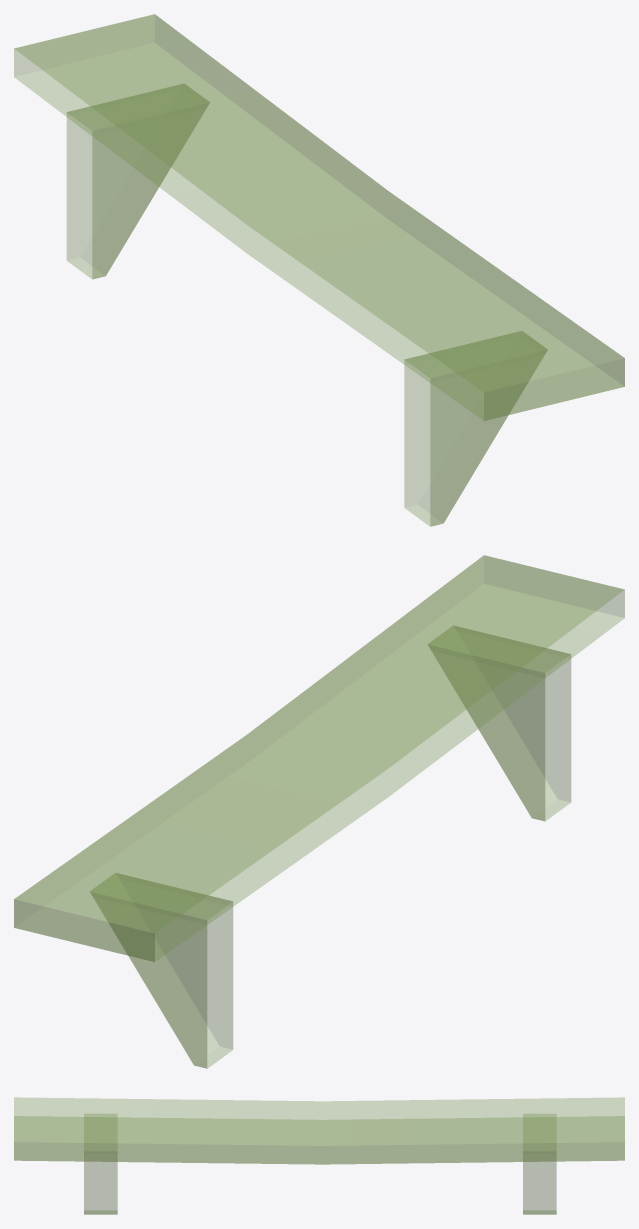
The model's file is wall_shelf_A_COL.fbx.
3 views of the same model, one above another, from view 1: azimuth 30°, elevation 25°; view 2: azimuth 150°, elevation 25°; view 3: azimuth 270°, elevation 25° (orthographic). The views are drawn at different scales.
Parts seen in each view (by area): view 1: wall_shelf_A_COL; view 2: wall_shelf_A_COL; view 3: wall_shelf_A_COL.
Part boxes in pixels (<box>): wall_shelf_A_COL: <box>14,14,624,526</box>; wall_shelf_A_COL: <box>14,555,624,1068</box>; wall_shelf_A_COL: <box>14,1097,624,1214</box>.
Bounding box in the file's own units: 50.81 × 59.82 × 293.
